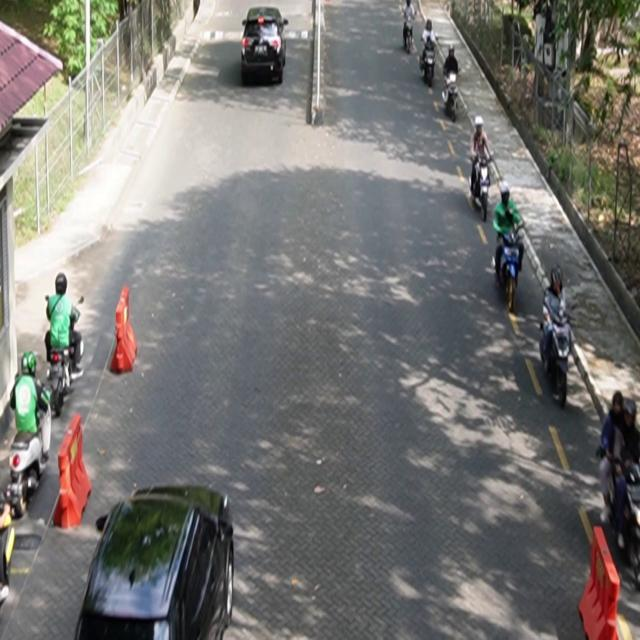car: (75, 485, 235, 640), (242, 6, 290, 86)
